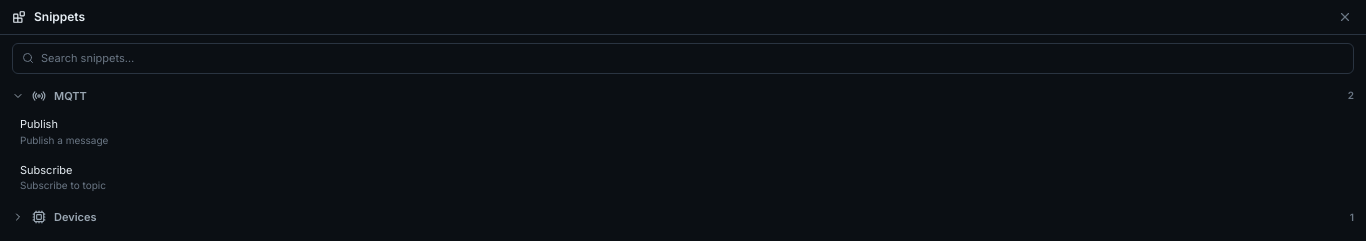
Test case: SnippetPicker › toggling an expanded group collapses it
Expected: the text "Publish" is shown, [20,117,58,131]
Click the text "MQTT" at (70, 96), box [54,88,87,104]
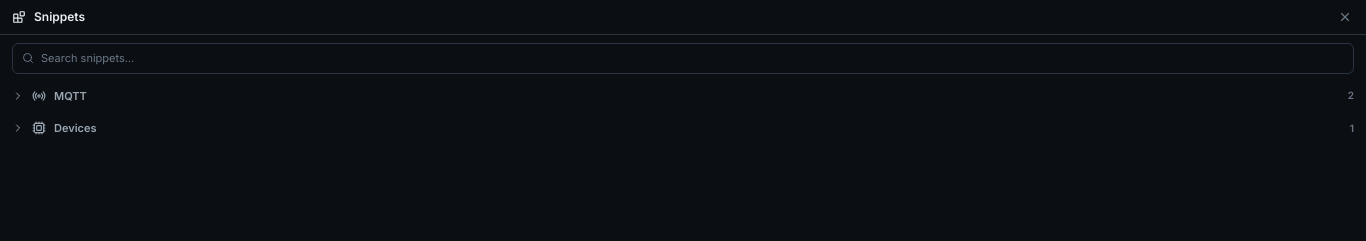
Result: the button "Publish" is gone
